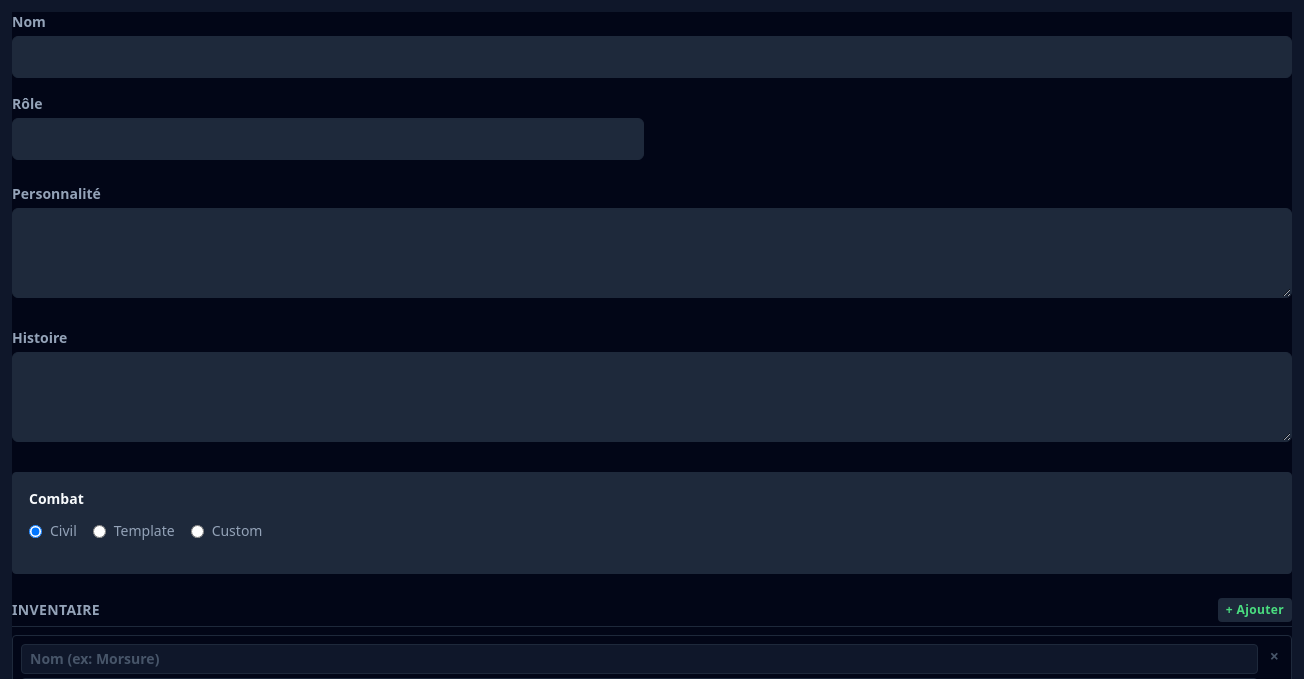
Le sélecteur de combat affiche les options conditionnelles
# On clique sur "Stats Uniques" (custom)
Click the radio button labelled "Custom" at (197, 531), box [191,524,204,538]
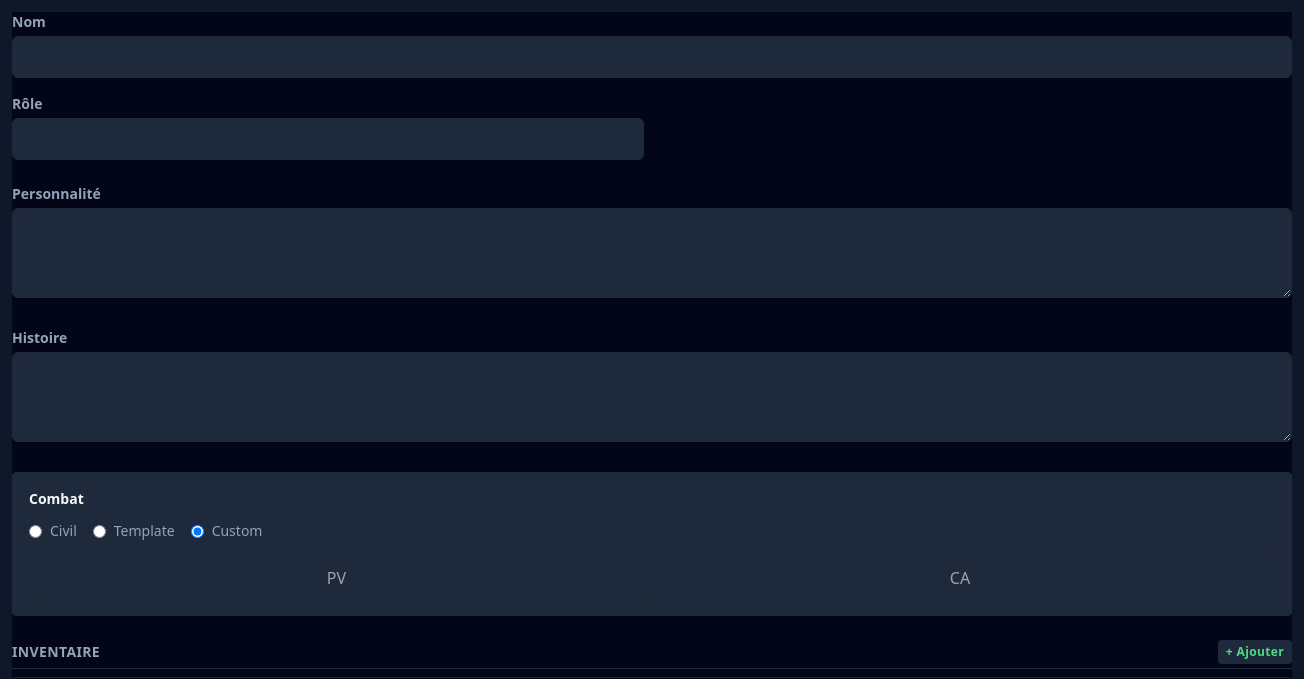
Expected: the field with placeholder "PV" is shown, [29,557,644,599]
